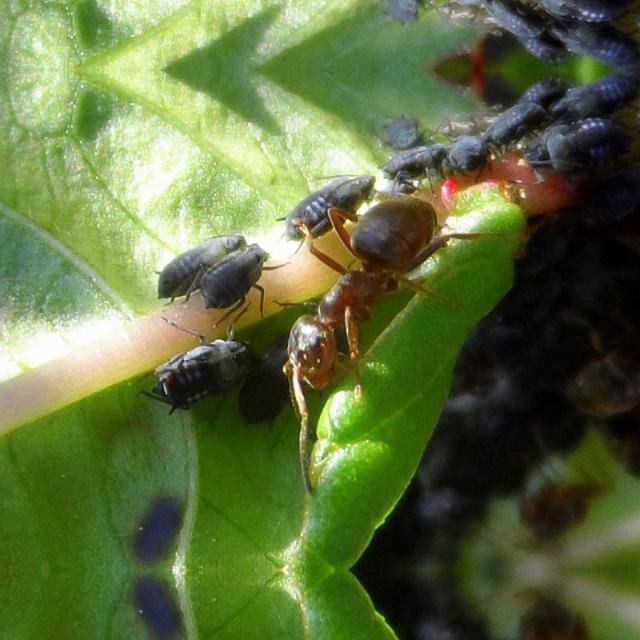Lasius: (256, 188, 468, 418)
